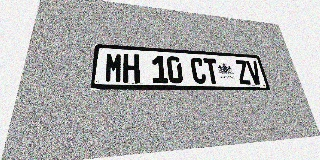0: (166, 56, 183, 84)
1: (151, 55, 168, 83)
C: (190, 57, 207, 84)
H: (123, 53, 140, 83)
M: (104, 52, 123, 83)
T: (203, 58, 220, 84)
V: (246, 61, 263, 85)
Z: (234, 60, 252, 84)
